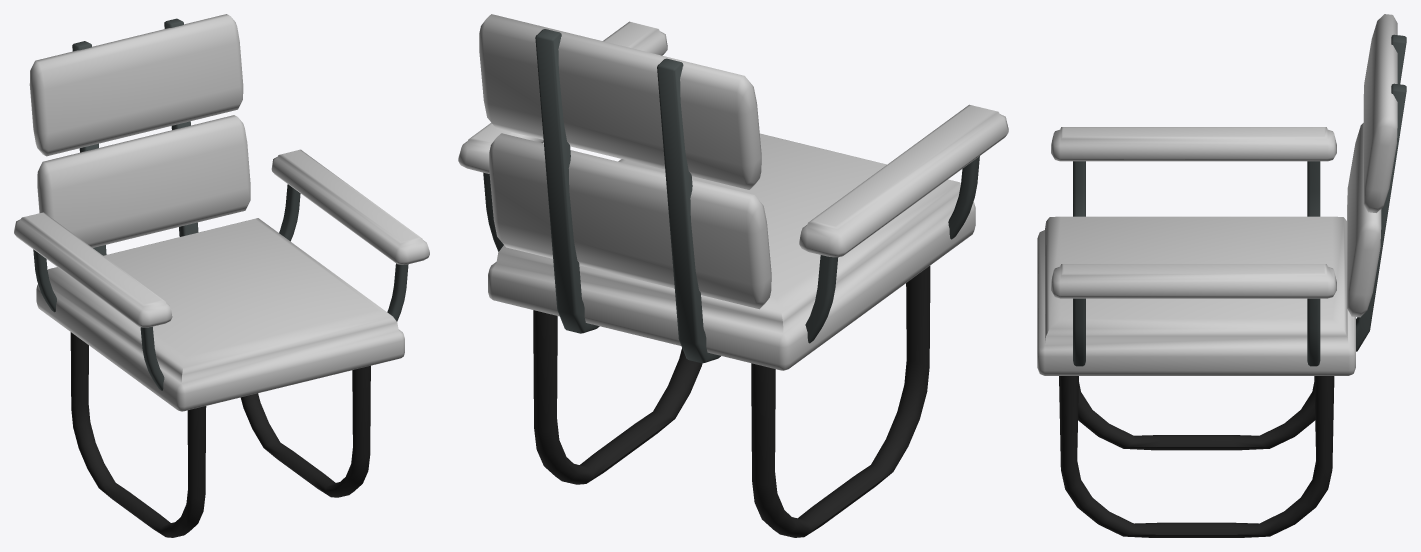
File: Chair-1.fbx
3 views of the same model, side by side, from view 1: azimuth 30°, elevation 25°; view 2: azimuth 150°, elevation 25°; view 3: azimuth 270°, elevation 25° (orthographic). The views are drawn at different scales.
Visible parts, largest first — view 1: Chair-1; view 2: Chair-1; view 3: Chair-1.
Part boxes in pixels (<box>): Chair-1: <box>14,14,429,537</box>; Chair-1: <box>458,14,1008,537</box>; Chair-1: <box>1037,14,1406,537</box>.
Bounding box in the file's own units: 0.55 × 0.7073 × 0.5494.
